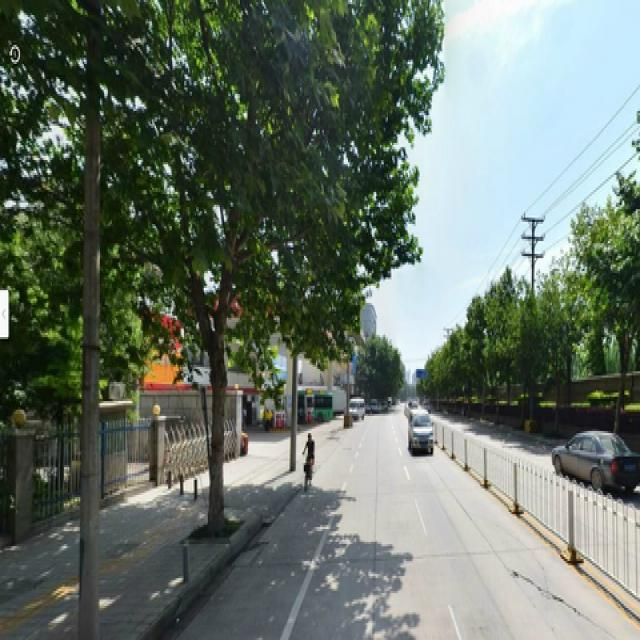meta: (125, 6, 343, 508)
